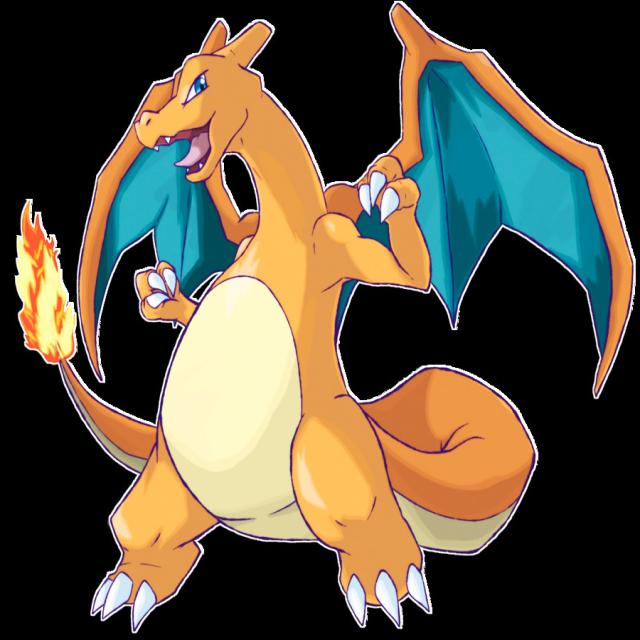Charizard: (102, 27, 430, 627)
